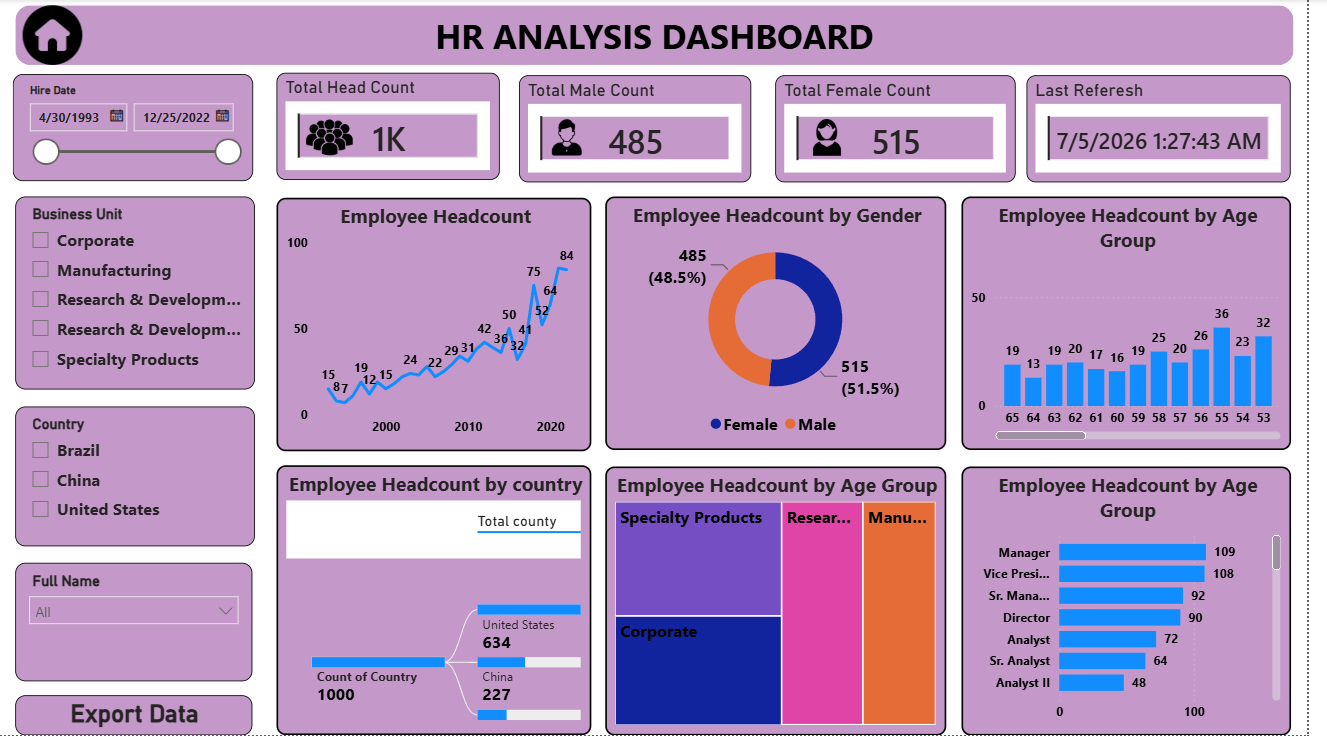

This screenshot's page, from the dashboard's own definition file:
{"tool":"powerbi","page":{"name":"HR Analysis","canvas":[1280,720],"ordinal":0},"visuals":[{"type":"lineChart","title":"Employee Headcount","fields":{"Category":["Employee Data.Hire Date.Variation.Date Hierarchy.Year"],"Y":["CountNonNull(Employee Data.Employee ID)"]},"box":[271.9,193.9,308.3,247.7],"z":0},{"type":"donutChart","title":"Employee Headcount by Gender","fields":{"Category":["Employee Data.Gender"],"Y":["CountNonNull(Employee Data.Employee ID)"]},"box":[592.8,193.5,333.4,248.4],"z":1000},{"type":"clusteredColumnChart","title":"Employee Headcount by Age Group","fields":{"Category":["Employee Data.Age"],"Y":["CountNonNull(Employee Data.Employee ID)"]},"box":[941.3,193.5,322.5,248.4],"z":2000},{"type":"decompositionTreeVisual","title":"Employee Headcount by country","fields":{"ExplainBy":["Employee Data.Country"],"Analyze":["CountNonNull(Employee Data.Country)"]},"box":[271.9,456.4,308.3,263.9],"z":3000},{"type":"treemap","title":"Employee Headcount by Age Group","fields":{"Group":["Employee Data.Business Unit"],"Values":["CountNonNull(Employee Data.Employee ID)"]},"box":[592.8,456.9,333.4,263.5],"z":4000},{"type":"clusteredBarChart","title":"Employee Headcount by Age Group","fields":{"Category":["Employee Data.Job Title"],"Y":["CountNonNull(Employee Data.Employee ID)"]},"box":[941.3,456.9,322.5,263.5],"z":5000},{"type":"cardVisual","title":"Total Head Count","fields":{"Data":["Employee Data.Total Gender"]},"box":[271.9,72.7,218.1,105],"z":6000},{"type":"cardVisual","title":"Total Male Count","fields":{"Data":["Employee Data.Total Male count"]},"box":[508.9,74,227.5,105],"z":7000},{"type":"cardVisual","title":"Last Referesh","fields":{"Data":["Min(Query1.Last Referesh)"]},"box":[1005.6,74,258.5,105],"z":8000},{"type":"shape","title":"HR ANALYSIS DASHBOARD","box":[15.4,5.6,1250.7,58.7],"z":9000},{"type":"slicer","fields":{"Values":["Employee Data.Hire Date"]},"box":[13.4,74,235.3,104.9],"z":9001},{"type":"slicer","fields":{"Values":["Employee Data.Full Name"]},"box":[15.4,552,232,116],"z":9002},{"type":"slicer","fields":{"Values":["Employee Data.Business Unit"]},"box":[15.4,192.8,234.8,188.6],"z":9003},{"type":"slicer","fields":{"Values":["Employee Data.Country"]},"box":[15.4,398.3,234.8,136.9],"z":9004},{"type":"cardVisual","title":"Total Female Count","fields":{"Data":["Employee Data.Total Female count"]},"box":[759.3,74,235.6,105],"z":9005},{"type":"image","box":[281.4,113.1,83.5,45.8],"z":9006},{"type":"image","box":[15.4,5.6,72.7,58.7],"z":9007},{"type":"image","box":[499.5,117.1,113.1,36.3],"z":9008},{"type":"image","box":[771.4,117.1,76.7,36.3],"z":9009},{"type":"tableEx","title":"Export Data","fields":{"Values":["Employee Data.Full Name","Employee Data.Gender","Sum(Employee Data.Annual Salary)","Employee Data.Employee ID"]},"box":[15.4,680.5,232,39.1],"z":9010}]}

Visuals, with their boxes in screenshot pixels (x1, y1, x2, y2), scaled from the page's 1280x720 canvas onto the 1327x737 screenshot:
"Employee Headcount" lineChart: (282,198,602,452)
"Employee Headcount by Gender" donutChart: (615,198,960,452)
"Employee Headcount by Age Group" clusteredColumnChart: (976,198,1310,452)
"Employee Headcount by country" decompositionTreeVisual: (282,467,602,736)
"Employee Headcount by Age Group" treemap: (615,468,960,736)
"Employee Headcount by Age Group" clusteredBarChart: (976,468,1310,736)
"Total Head Count" cardVisual: (282,74,508,182)
"Total Male Count" cardVisual: (528,76,763,183)
"Last Referesh" cardVisual: (1043,76,1311,183)
"HR ANALYSIS DASHBOARD" shape: (16,6,1313,66)
slicer - Employee Data.Hire Date: (14,76,258,183)
slicer - Employee Data.Full Name: (16,565,256,684)
slicer - Employee Data.Business Unit: (16,197,259,390)
slicer - Employee Data.Country: (16,408,259,548)
"Total Female Count" cardVisual: (787,76,1031,183)
image: (292,116,378,163)
image: (16,6,91,66)
image: (518,120,635,157)
image: (800,120,879,157)
"Export Data" tableEx: (16,697,256,736)
